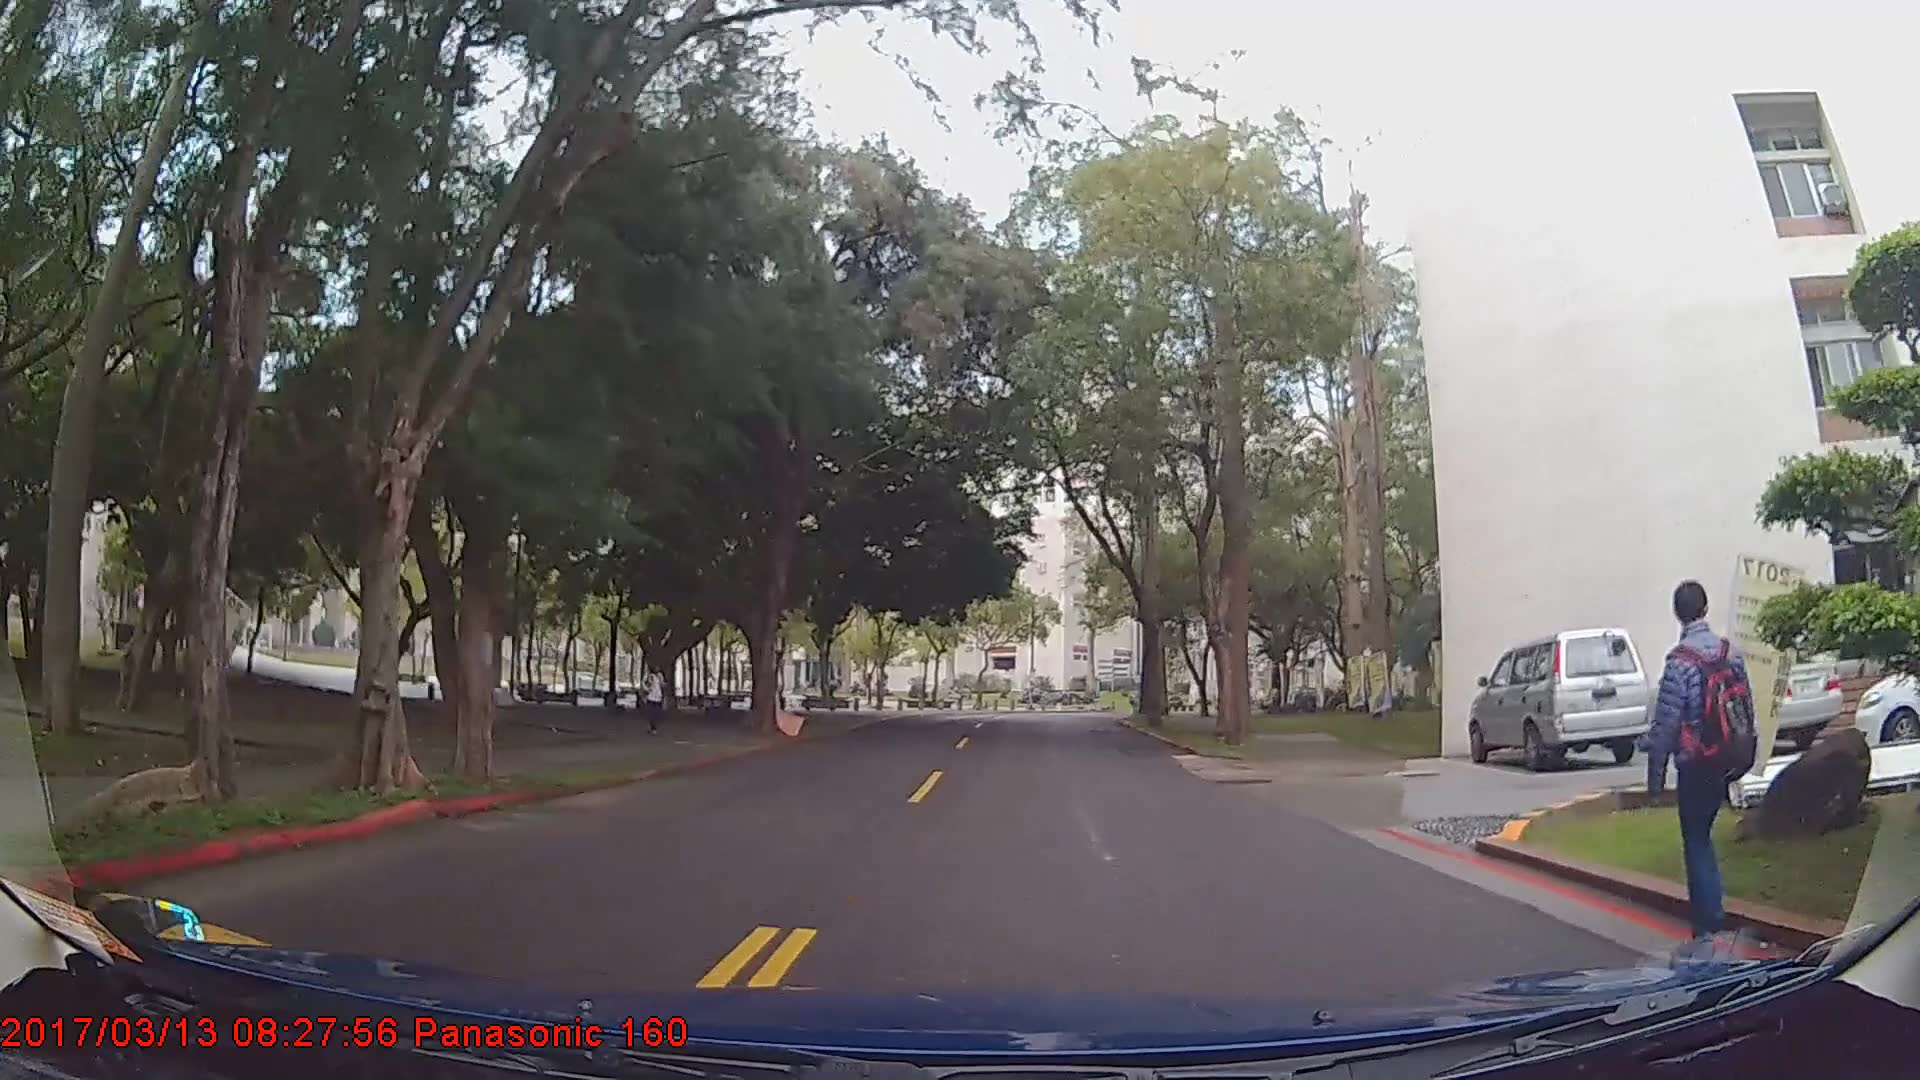pedestrian: (1643, 582, 1762, 950), (640, 660, 670, 737)
vehicle: (1468, 624, 1649, 769)
